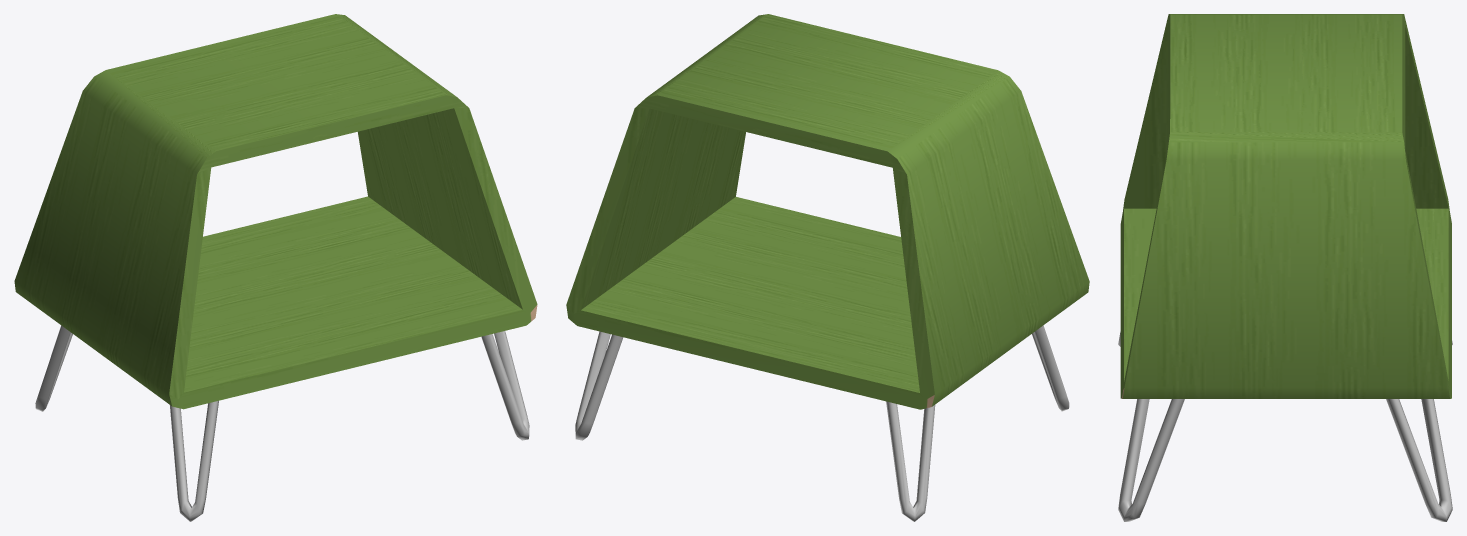
The model's file is Open_End_Table_04.FBX.
The picture shows the model from 3 angles, left to right: view 1: azimuth 30°, elevation 25°; view 2: azimuth 150°, elevation 25°; view 3: azimuth 270°, elevation 25°; orthographic projection. The views are drawn at different scales.
Parts seen in each view (by area): view 1: End_table; view 2: End_table; view 3: End_table.
Boxes of the visible parts, left/top/right/bottom form: End_table: left=14, top=14, right=537, bottom=521; End_table: left=566, top=14, right=1089, bottom=521; End_table: left=1118, top=14, right=1452, bottom=521.
Bounding box in the file's own units: 134 × 120 × 101.
